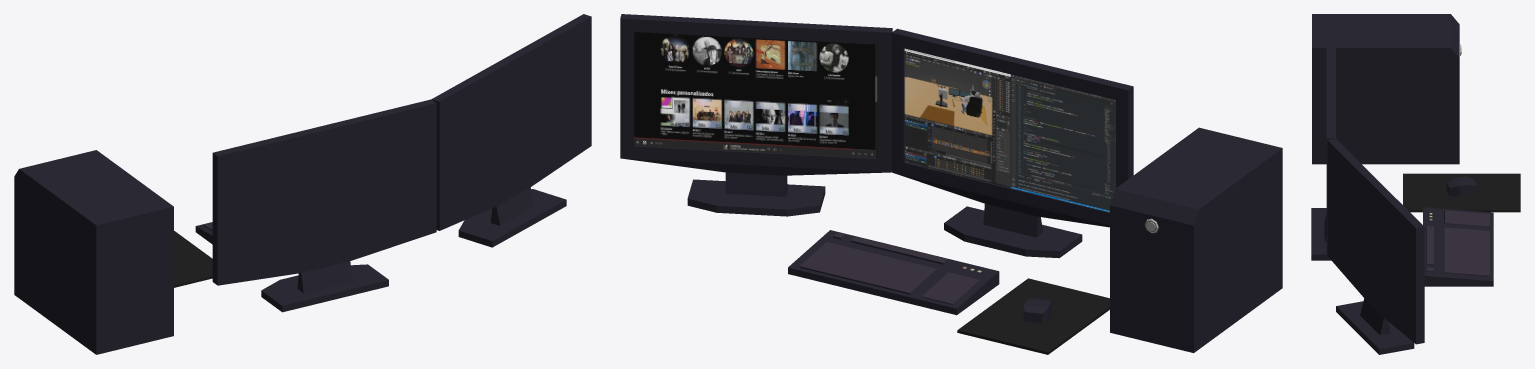
Rendered from Computer.glb.
3 renders of one model, left to right at view 1: azimuth 30°, elevation 25°; view 2: azimuth 150°, elevation 25°; view 3: azimuth 270°, elevation 25°, orthographic. The views are drawn at different scales.
Visible parts, largest first — view 1: Computer; view 2: Computer; view 3: Computer.
Boxes of the visible parts, x1,y1,x2,y2 form: Computer: (14,14,591,354); Computer: (620,14,1282,354); Computer: (1311,14,1520,354).
Bounding box in the file's own units: 1.65 × 0.4647 × 0.6011.
5 materials, 3 textured.
